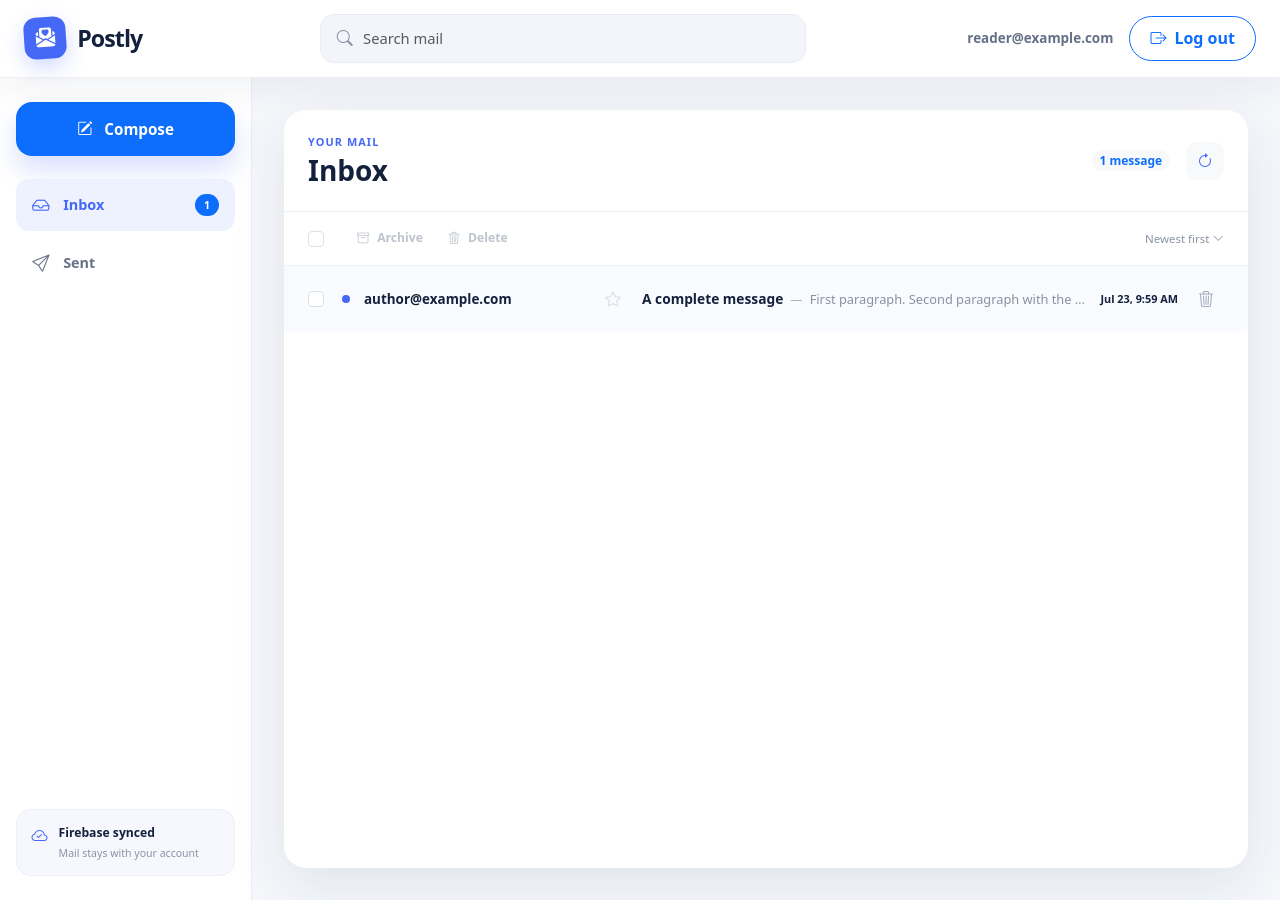
Scenario: Reading message component › shows the complete subject, sender, recipient, and message body
Click the button named "Open message: A complete message" at (766, 299), box [284,266,1248,332]
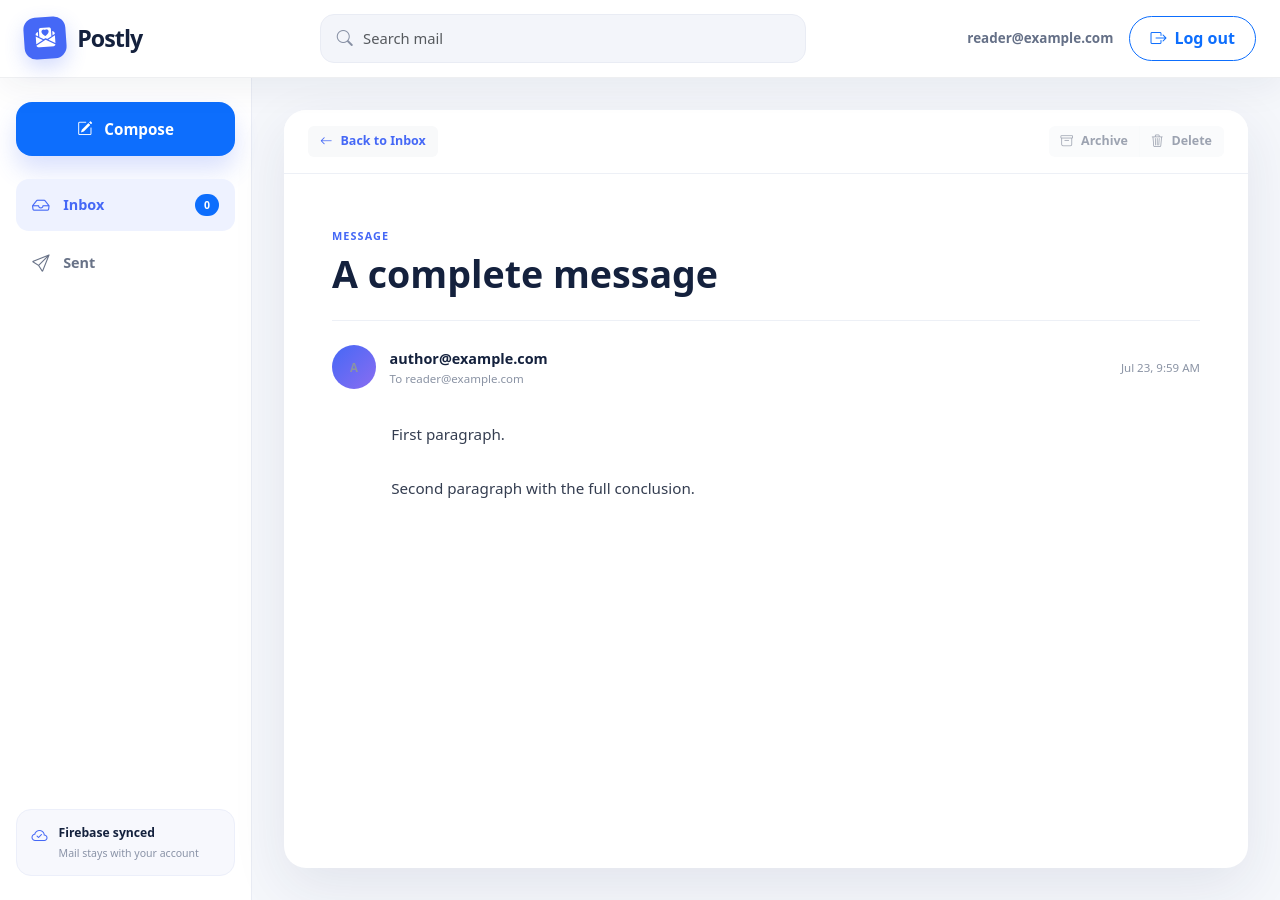
Check: the text "author@example.com" is shown, box [390,348,548,370]
Check: the heading "A complete message" is shown, box [332,248,718,299]
Check: the text "To reader@example.com" is shown, box [390,371,524,386]
